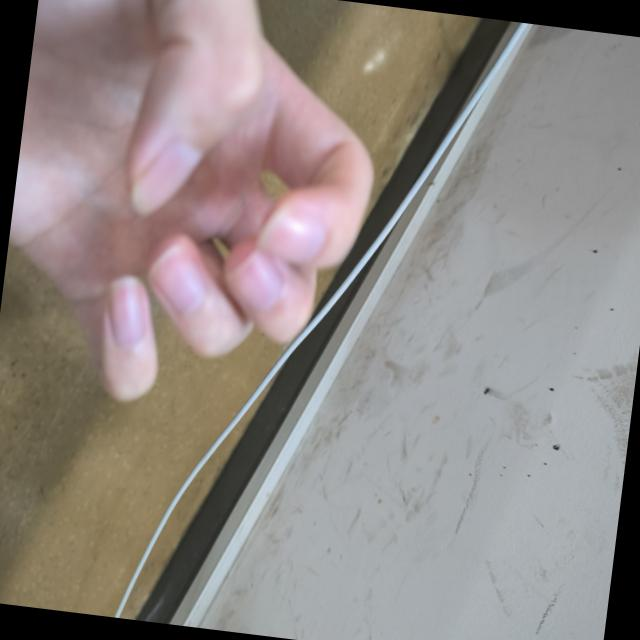Nail: (132, 142, 202, 214), (253, 206, 322, 264), (149, 245, 202, 314), (226, 251, 280, 311), (106, 278, 143, 348)
